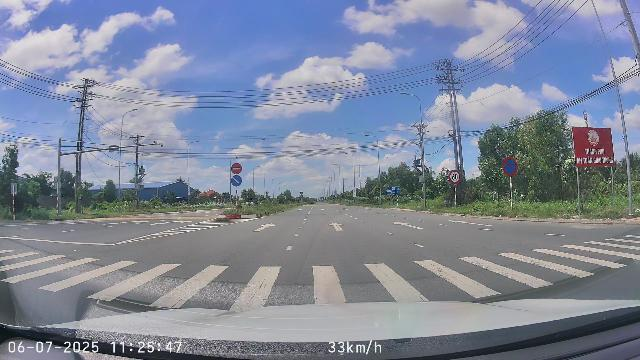102-cam-di-nguoc-chieu: (231, 162, 243, 174)
127-toc-do-toi-da-60: (449, 169, 461, 184)
131a-cam-do-xe: (503, 157, 518, 176)
302a-huong-phai-di-vong-chuong-ngai-vat-1: (231, 175, 242, 186)
